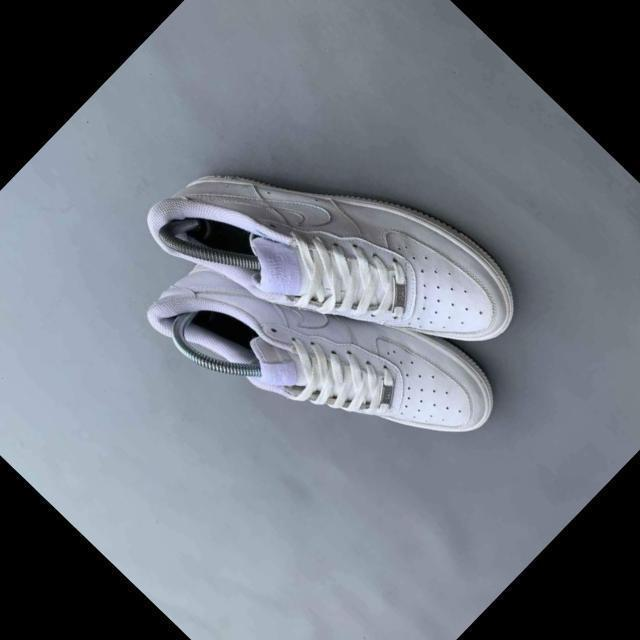nike fake air force: (112, 39, 540, 463), (137, 169, 512, 542)
